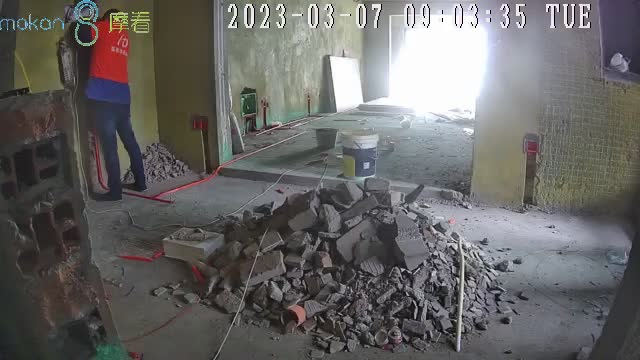people: (72, 6, 147, 201)
window: (392, 19, 480, 101)
